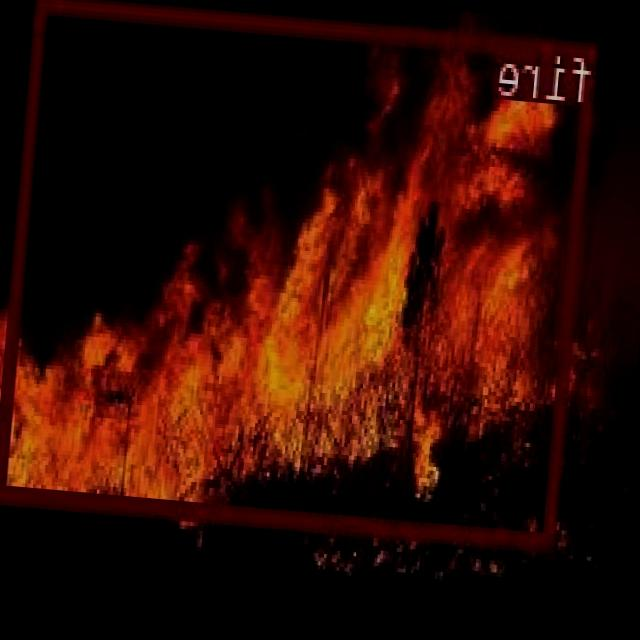fire: (0, 0, 601, 547)
